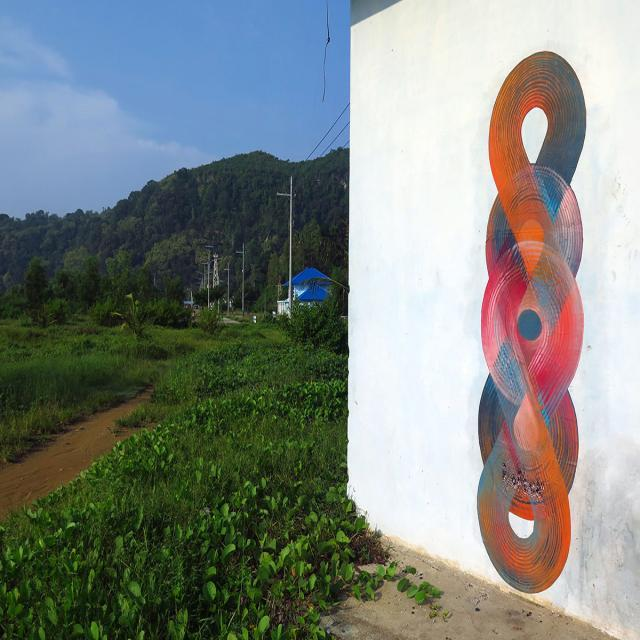-: (476, 49, 584, 596)
